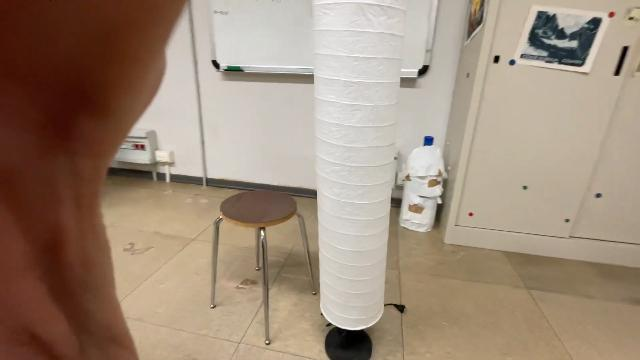Lamp: (308, 0, 409, 360)
Stool: (204, 184, 320, 354)
